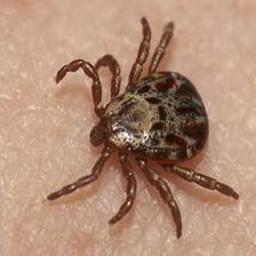Dermacentor variabilis: (49, 20, 244, 239)
